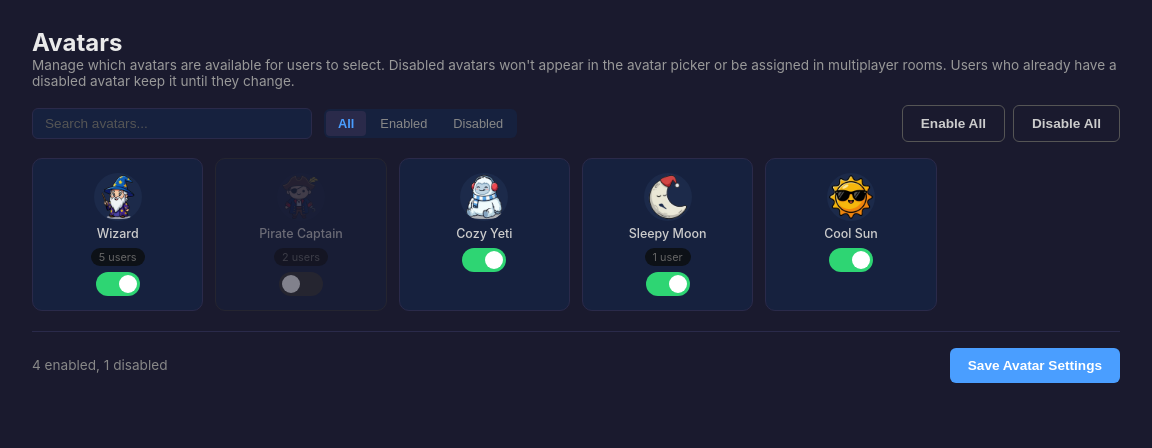
AdminAvatarsPage › filters by enabled/disabled status
The width and height of the screenshot is (1152, 448).
Filter to disabled only
Click the button with test id "avatars-filter-disabled".
click(478, 124)  # box [441, 111, 515, 136]
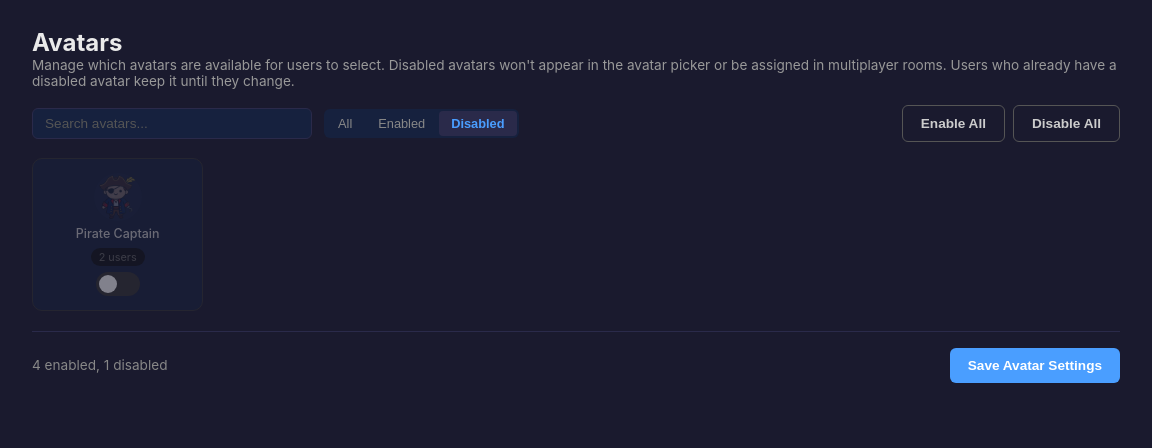
Expected: the element with test id "avatar-card-pirate" is shown, [32, 158, 203, 311]
Expected: the element with test id "avatar-card-wizard" is gone
Filter to enabled only
Click the button with test id "avatars-filter-enabled".
click(402, 124)  # box [366, 111, 437, 136]
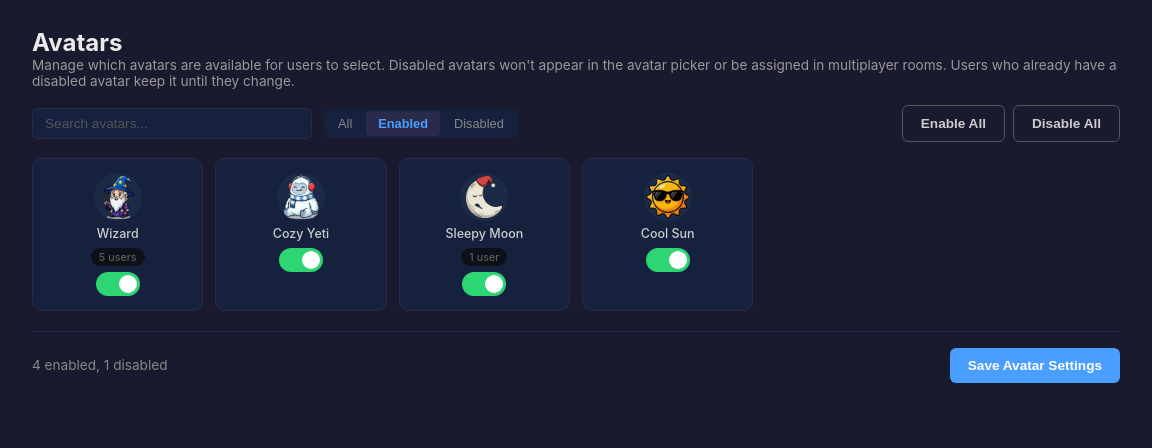
Expected: the element with test id "avatar-card-wizard" is shown, [32, 158, 203, 311]
Expected: the element with test id "avatar-card-pirate" is gone
Back to all
Click the button with test id "avatars-filter-all".
click(345, 124)  # box [326, 111, 364, 136]
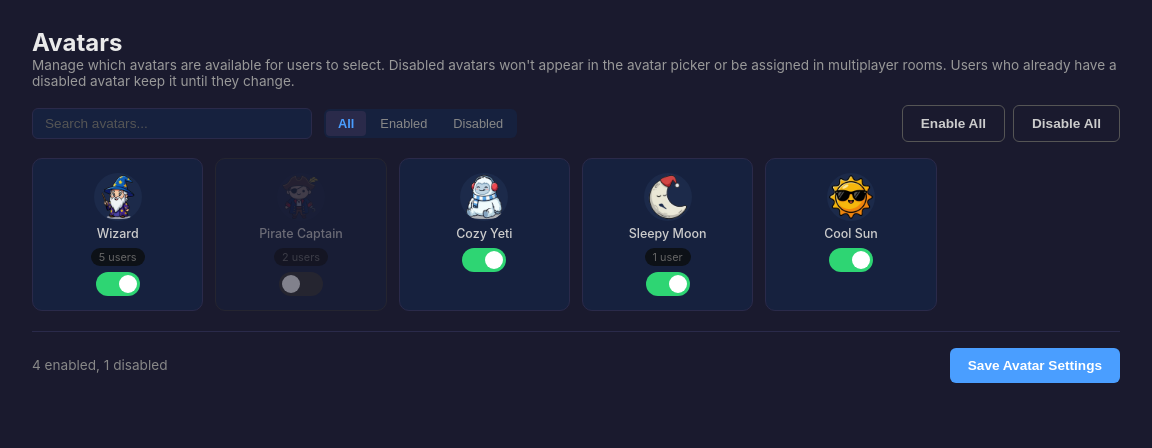
Expected: the element with test id "avatar-card-wizard" is shown, [32, 158, 203, 311]
Expected: the element with test id "avatar-card-pirate" is shown, [215, 158, 387, 311]
